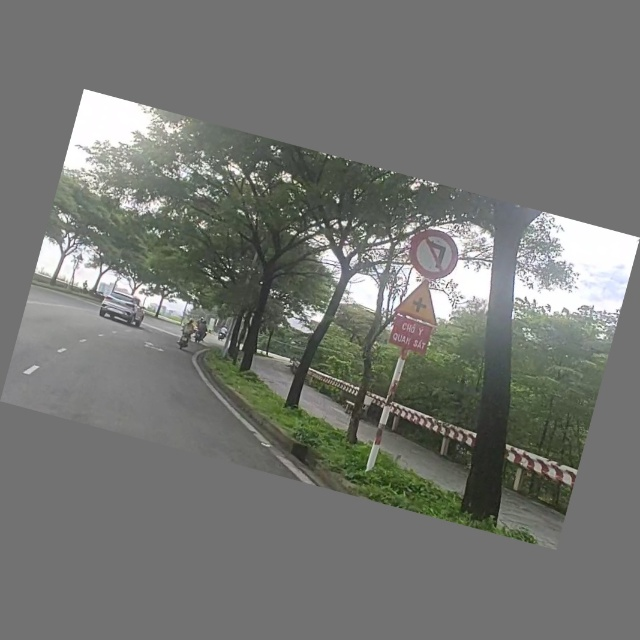P.123a: (402, 223, 467, 286)
W.205a: (392, 273, 454, 330)
